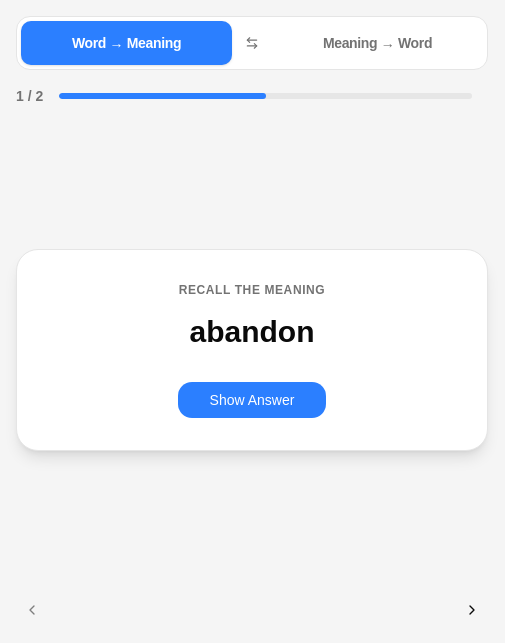
Test: ReviewPage › navigation › navigates to the next card
The image size is (505, 643).
Expected: the heading "abandon" is shown, [190, 315, 314, 348]
Click the 6th button at (472, 610), box [456, 594, 488, 626]
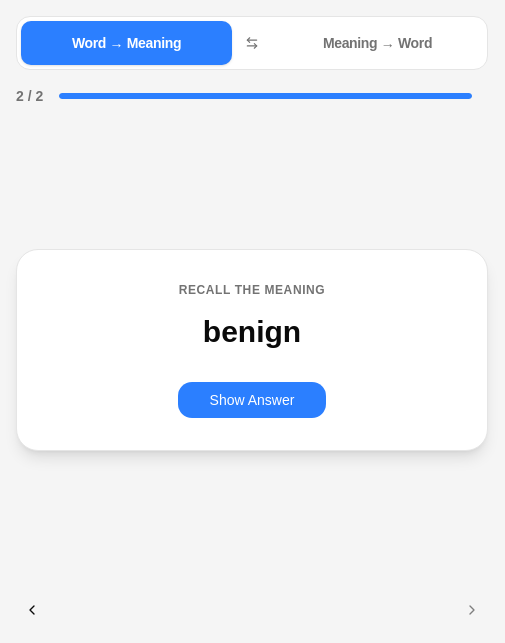
Result: the heading "benign" is shown at [203, 315, 301, 348]
